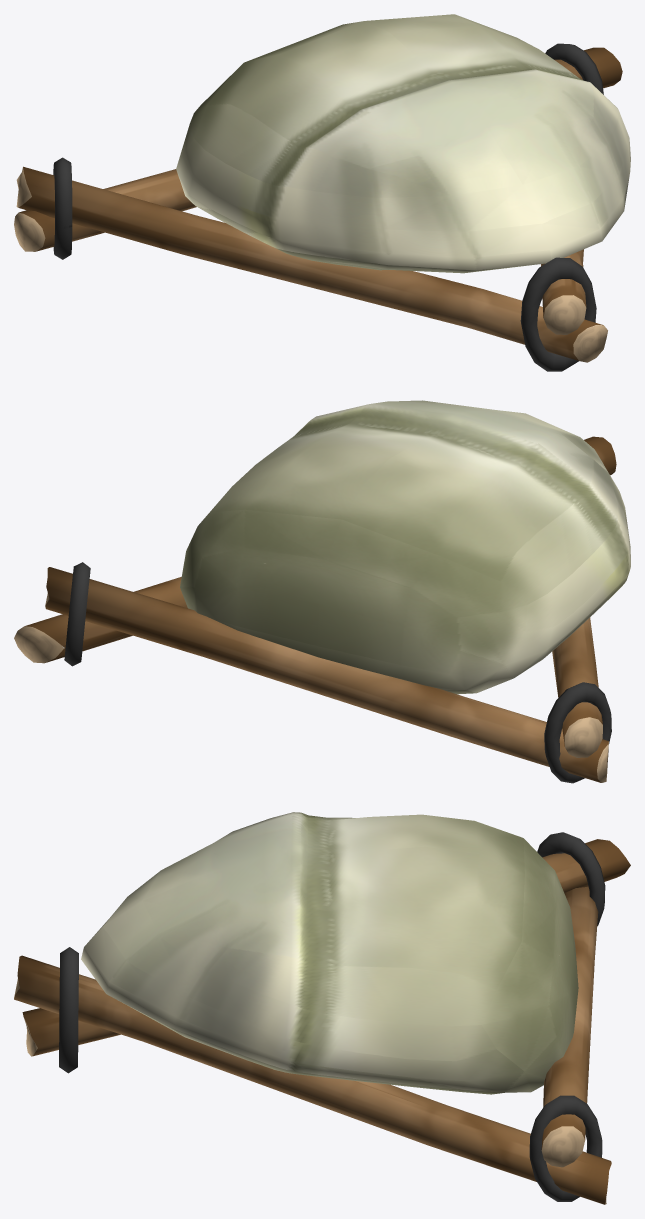
File: Improvised_Backpack_Ground.FBX
3 views of the same model, one above another, from view 1: azimuth 30°, elevation 25°; view 2: azimuth 150°, elevation 25°; view 3: azimuth 270°, elevation 25° (orthographic). The views are drawn at different scales.
Visible parts, largest first — view 1: Cube; view 2: Cube; view 3: Cube.
Part boxes in pixels (box(x1,y1,x2,y2)): Cube: box(14, 14, 630, 371); Cube: box(14, 400, 630, 783); Cube: box(14, 812, 630, 1204).
Size of the model in its own units: 0.3511 by 0.1248 by 0.3064.
